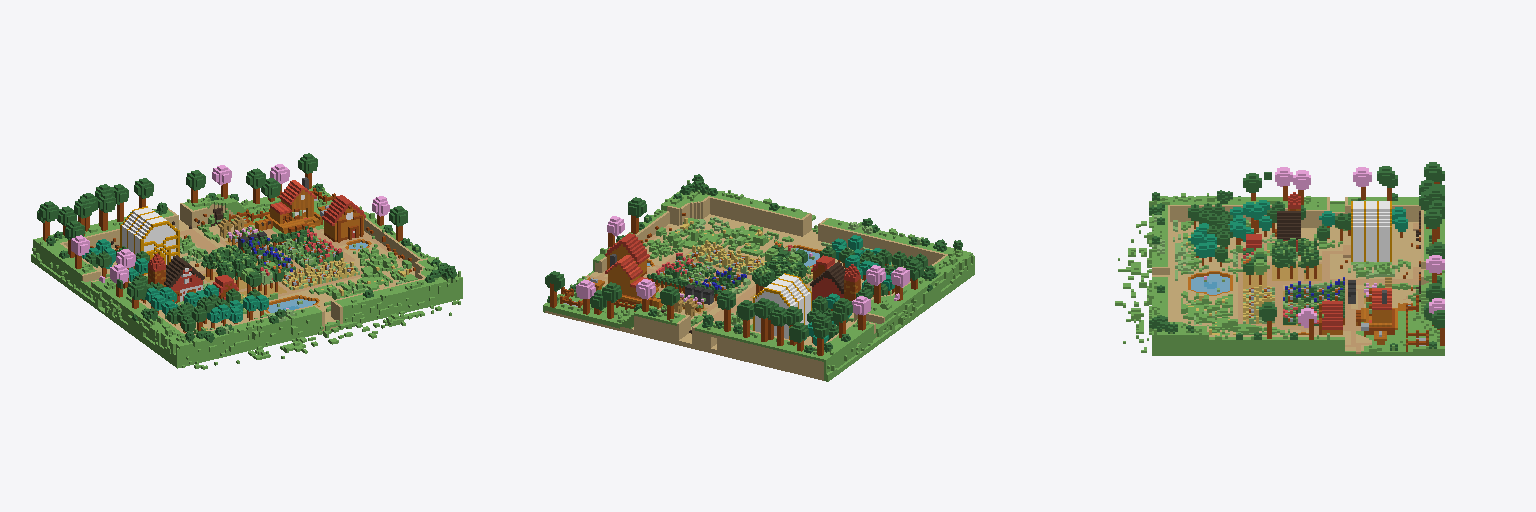
The picture shows the model from 3 angles: view 1: azimuth 30°, elevation 25°; view 2: azimuth 150°, elevation 25°; view 3: azimuth 270°, elevation 25°; orthographic projection.
Bounding box in the file's own units: 126 × 26 × 126.
Materials: 1 (1 with a texture image).